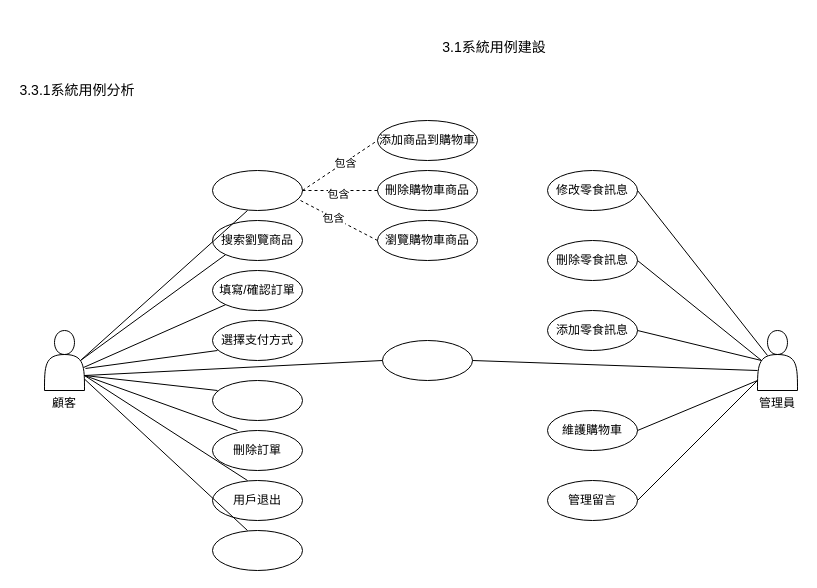
The diagram is 817 pixels wide and 588 high, and some of its shapes have lost their labels. Here are the shapes that lost their labels. From the top down, the box of each, then its label:
(212, 170, 302, 210): 購物車管理
(382, 340, 472, 380): 登錄/註冊
(212, 380, 302, 420): 查詢訂單
(212, 530, 302, 570): 查看修改個人訊息
